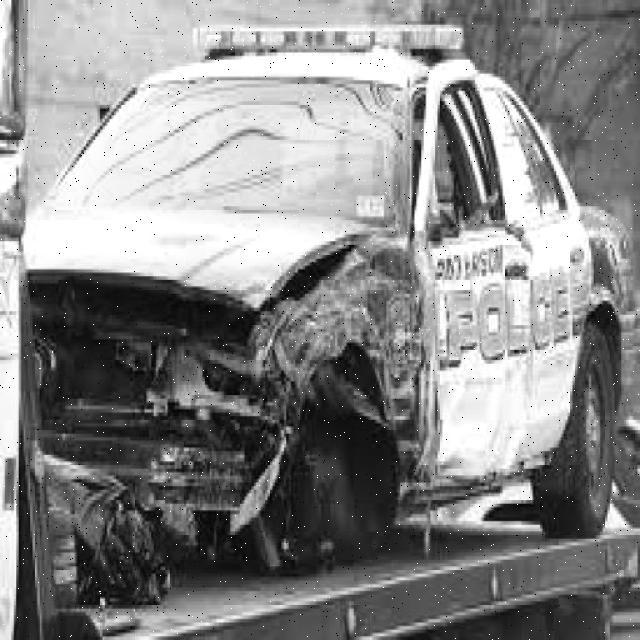car damage: (30, 224, 527, 522)
